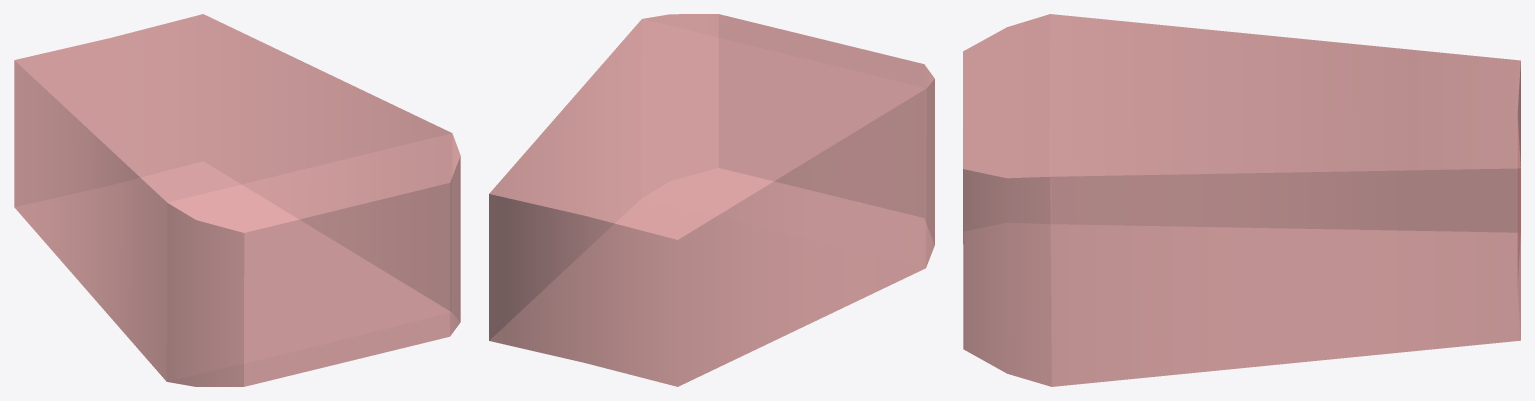
Rendered from MeshSoapBottleVolume_29_1.obj.
The picture shows the model from 3 angles, left to right: view 1: azimuth 30°, elevation 25°; view 2: azimuth 150°, elevation 25°; view 3: azimuth 270°, elevation 25°; orthographic projection. The views are drawn at different scales.
Visible parts, largest first — view 1: SoapBottleVolume_29; view 2: SoapBottleVolume_29; view 3: SoapBottleVolume_29.
Boxes of the visible parts, x1,y1,x2,y2 form: SoapBottleVolume_29: (14, 14, 460, 386); SoapBottleVolume_29: (489, 14, 934, 386); SoapBottleVolume_29: (963, 14, 1520, 386).
Bounding box in the file's own units: 0.1086 × 0.0654 × 0.1572.
